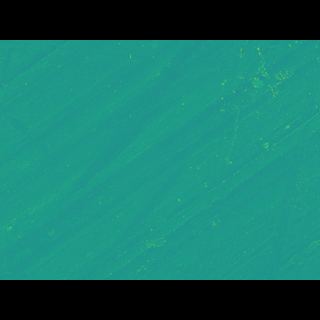Loch: (0, 68, 215, 185), (262, 70, 320, 250)
